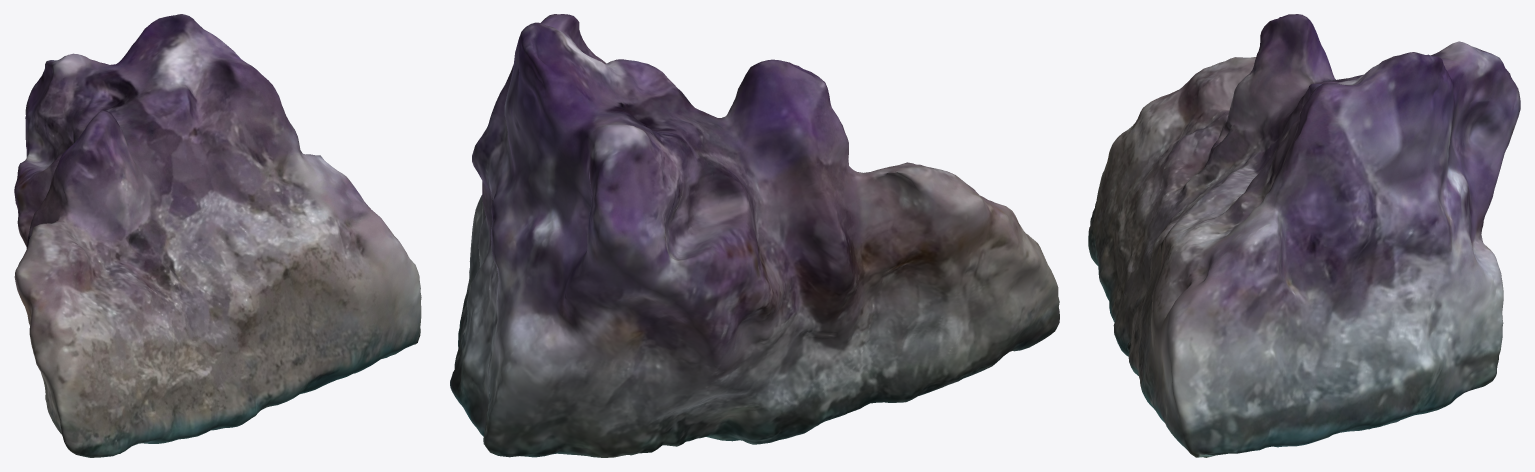
Rendered from ametista.gltf.
The picture shows the model from 3 angles, left to right: view 1: azimuth 30°, elevation 25°; view 2: azimuth 150°, elevation 25°; view 3: azimuth 270°, elevation 25°; orthographic projection. The views are drawn at different scales.
Parts seen in each view (by area): view 1: ObjectCapture; view 2: ObjectCapture; view 3: ObjectCapture.
Boxes of the visible parts, x1,y1,x2,y2 form: ObjectCapture: (14, 14, 421, 457); ObjectCapture: (450, 14, 1059, 457); ObjectCapture: (1088, 14, 1520, 457).
Size of the model in its own units: 0.0576 by 0.0443 by 0.0477.
1 material, 1 textured.
